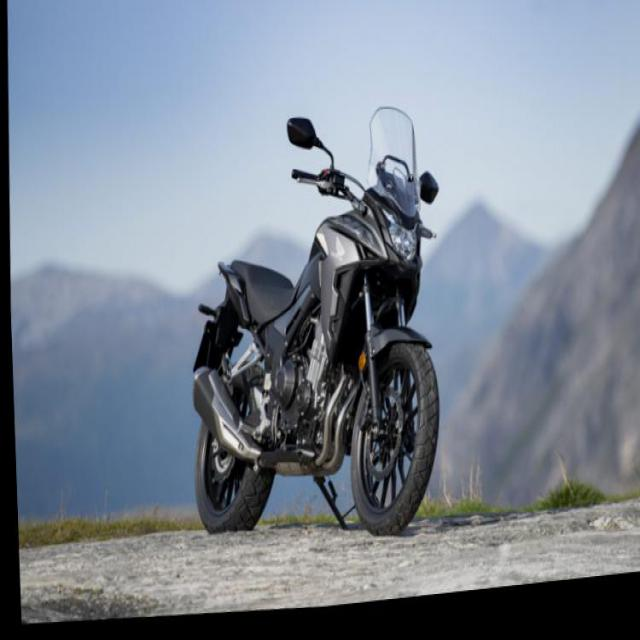CB500X: (177, 106, 448, 566)
